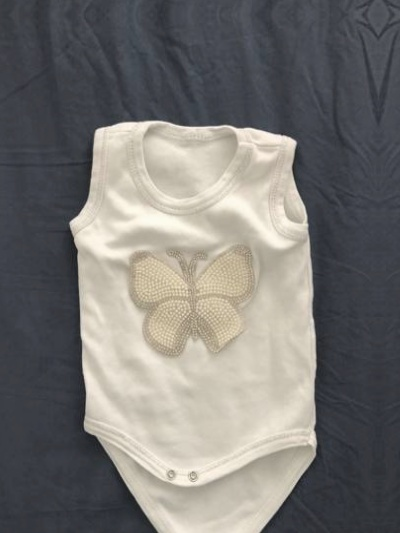Body: (55, 99, 341, 533)
